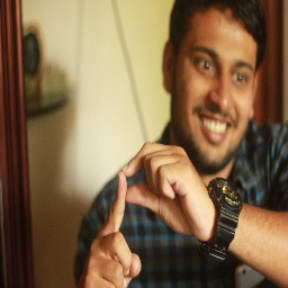P: (83, 138, 204, 288)
